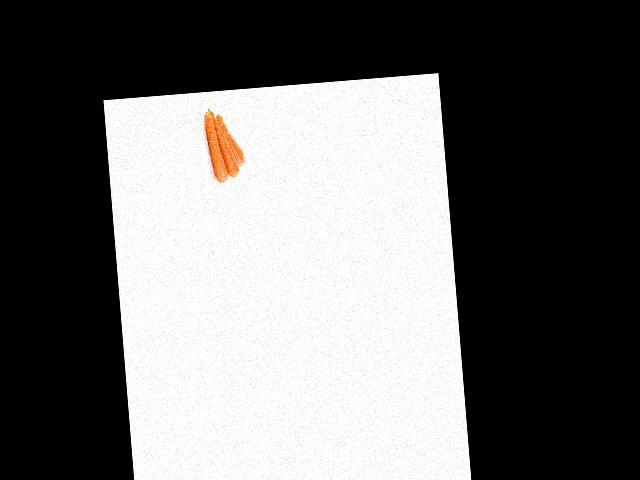carrot: (200, 111, 229, 187)
